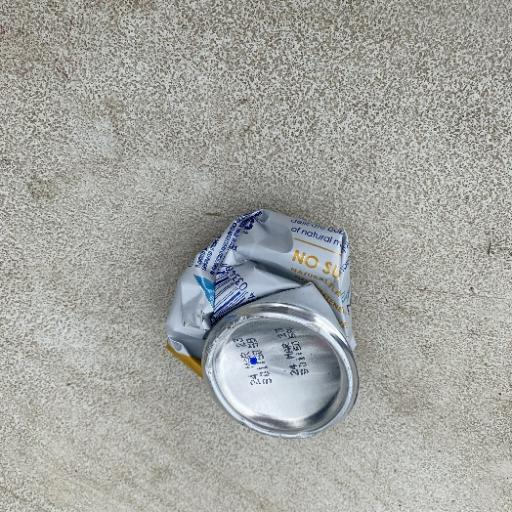Metal: (163, 206, 361, 440)
